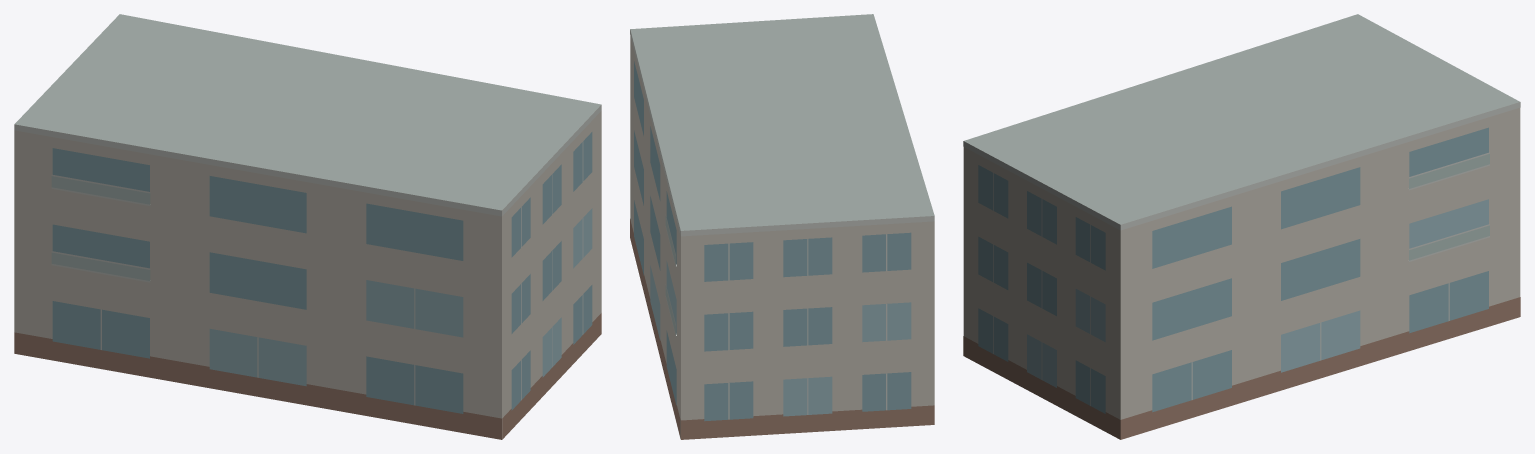
The model's file is survey-upis-32584241.glb.
3 renders of one model, left to right at view 1: azimuth 30°, elevation 25°; view 2: azimuth 150°, elevation 25°; view 3: azimuth 270°, elevation 25°, orthographic. The views are drawn at different scales.
Parts seen in each view (by area): view 1: survey-upis-32584241.tmp; view 2: survey-upis-32584241.tmp; view 3: survey-upis-32584241.tmp.
Part boxes in pixels (x1,y1,x2,y2): survey-upis-32584241.tmp: (14,14,601,439); survey-upis-32584241.tmp: (630,14,934,439); survey-upis-32584241.tmp: (963,14,1520,439).
Bounding box in the file's own units: 19.56 × 9.3 × 21.83.
